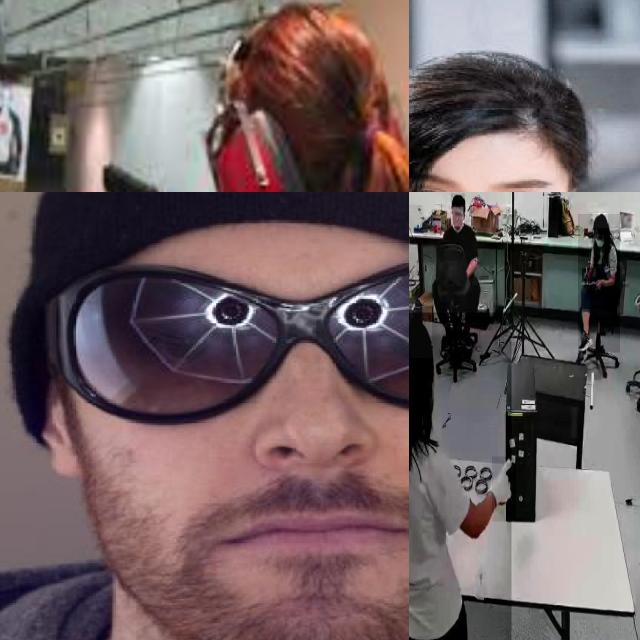Ear-protection: (212, 3, 409, 192)
face_mask: (595, 234, 605, 255)
face_nomask: (106, 256, 409, 593), (409, 157, 565, 192), (452, 207, 464, 227)
glasses: (12, 256, 409, 438)
hand_glove: (492, 456, 516, 522)
hand_noglove: (582, 268, 593, 282), (593, 278, 603, 290)
head_nohelmet: (409, 37, 594, 174), (409, 308, 432, 358), (592, 213, 608, 229), (451, 193, 465, 206)
person: (409, 37, 640, 192), (409, 312, 512, 640), (437, 196, 483, 342), (578, 214, 620, 353)
shoes: (576, 326, 595, 355)
